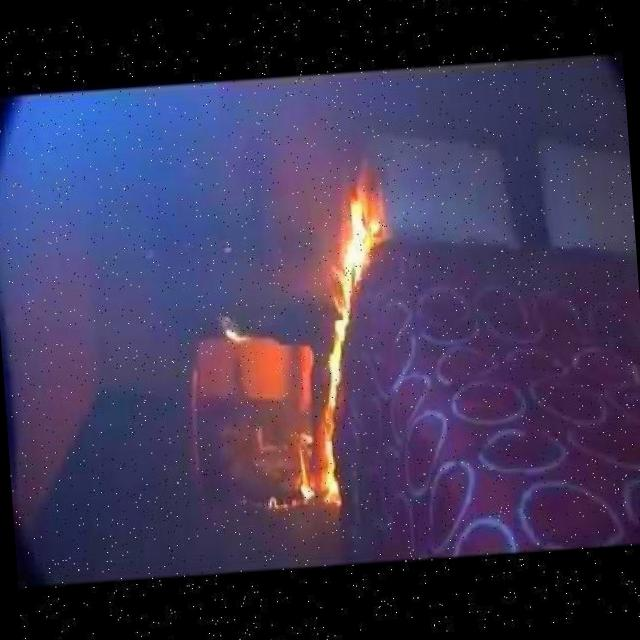fire: (233, 156, 428, 527)
